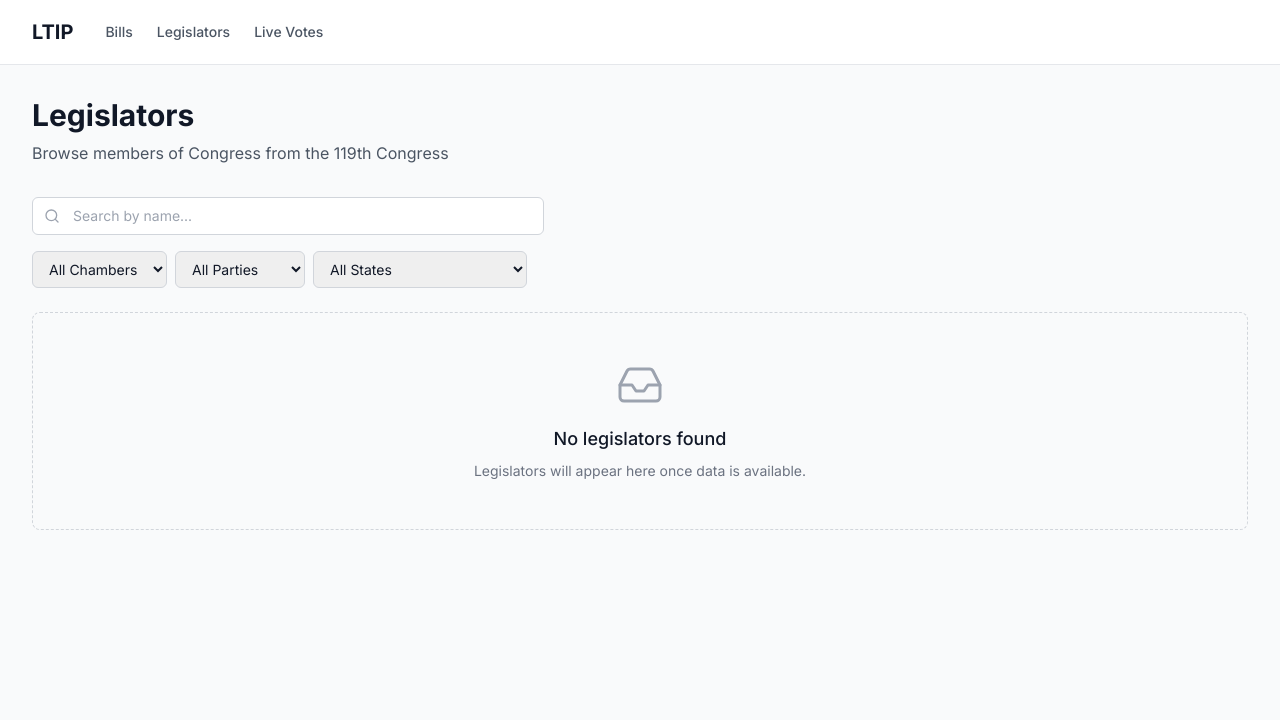
Test case: LegislatorsPageClient › Clear Filters › should reset all filter values when clear is clicked
This screenshot has width=1280, height=720.
// Apply filters
Type "John" into the search field with placeholder "Search by name...". click: (288, 216)
box: [32,197,544,235]
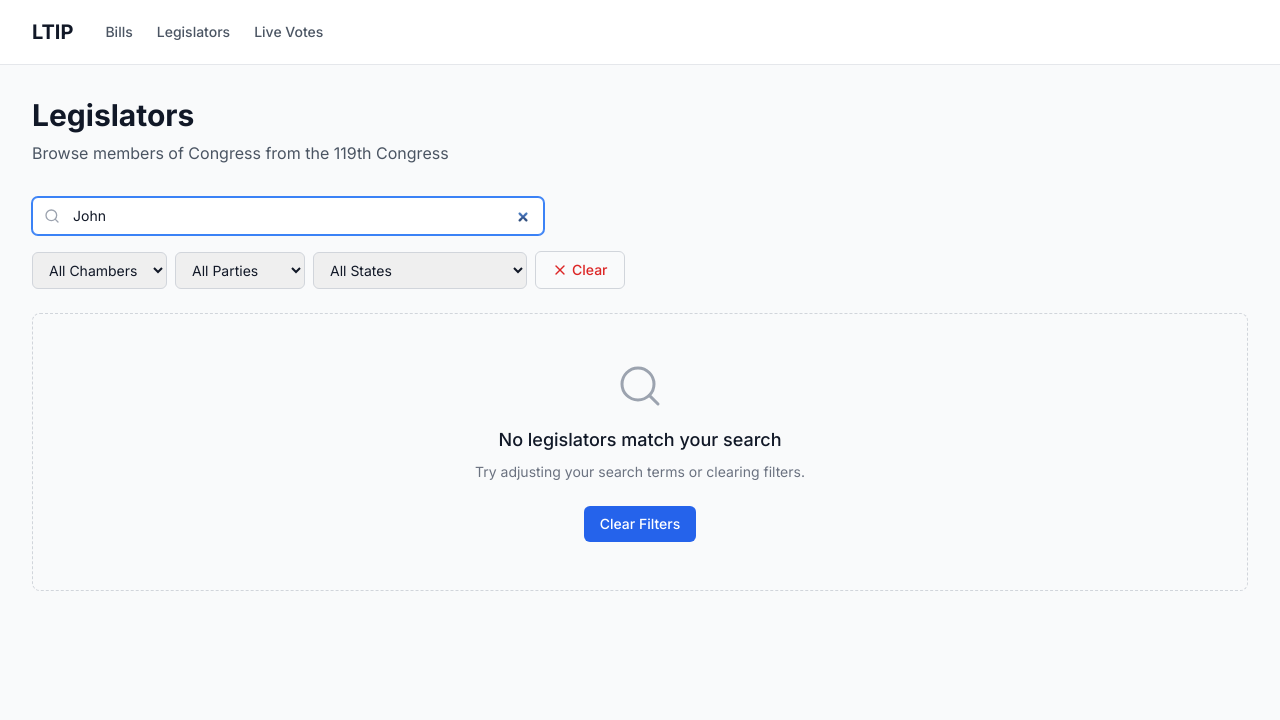
Select "House" in the 1st dropdown. click: (100, 270)
box: [32,252,167,288]
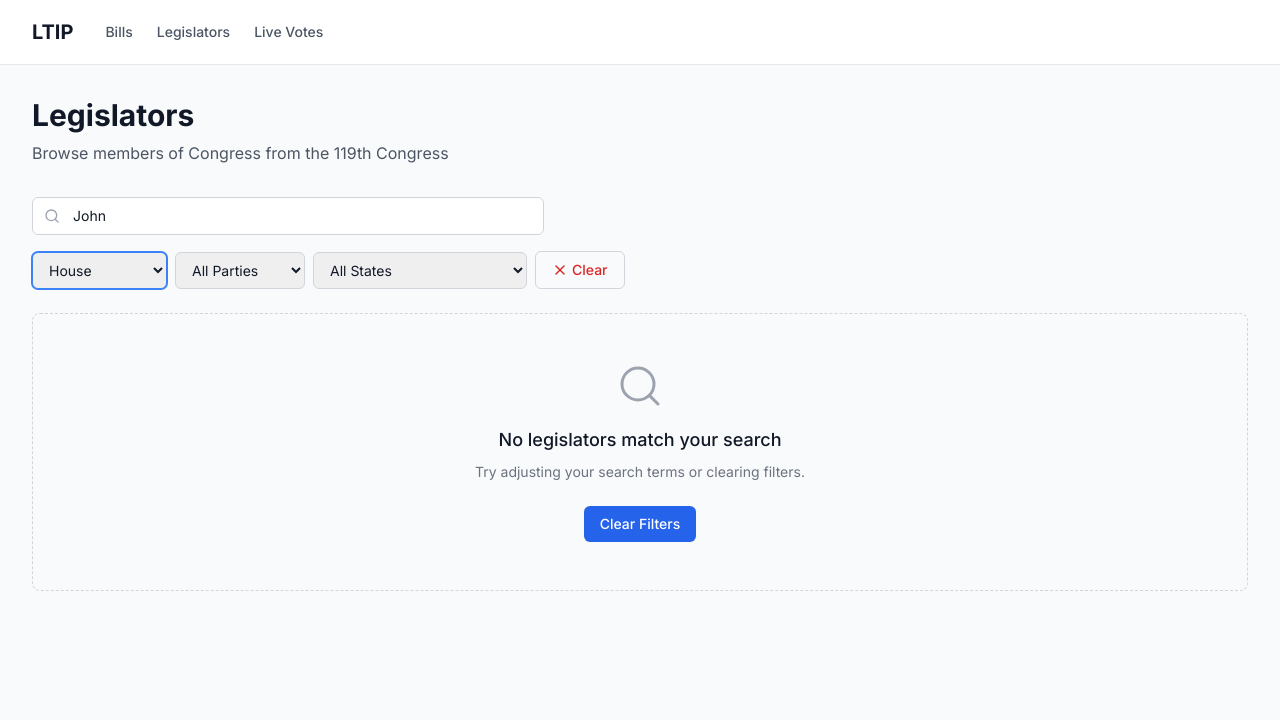
Expected: the button "Clear" is shown
Click the button "Clear". click: (580, 270)
box: [535,251,624,289]
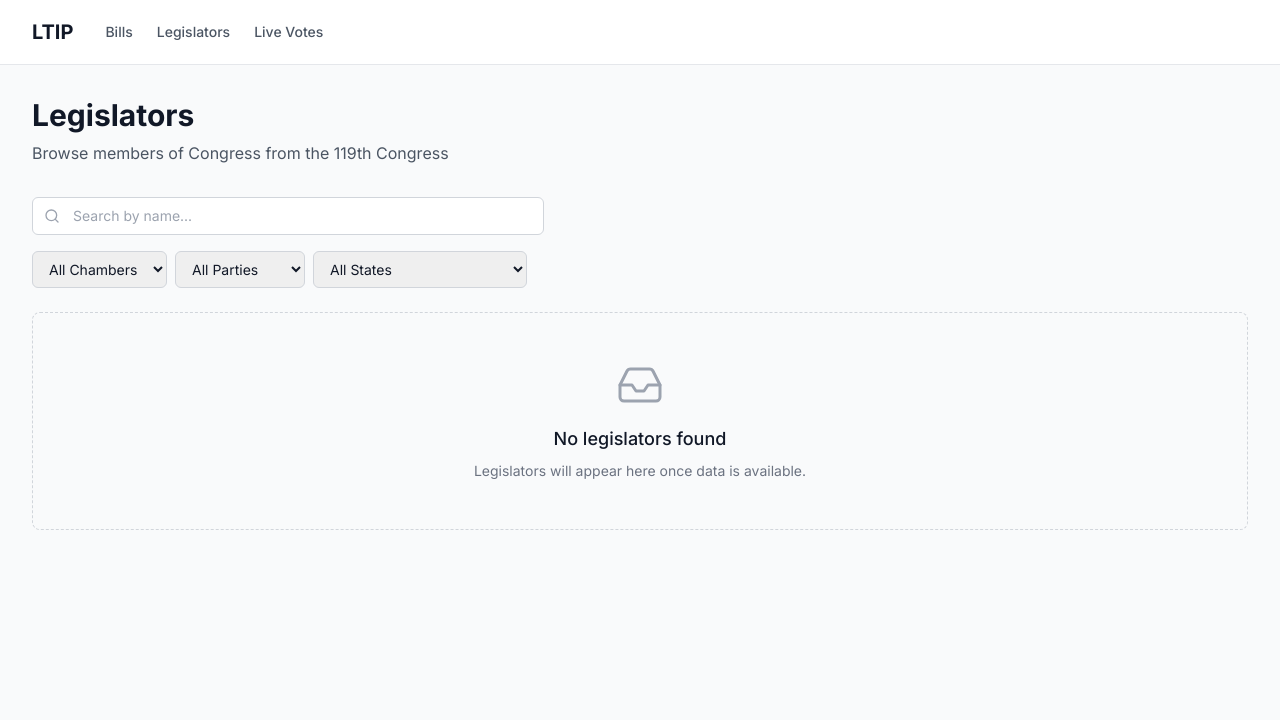
Expected: the search field with placeholder "Search by name..." is empty, [32,197,544,235]
